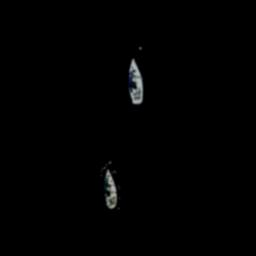boat: (120, 56, 150, 108), (96, 161, 124, 211)
